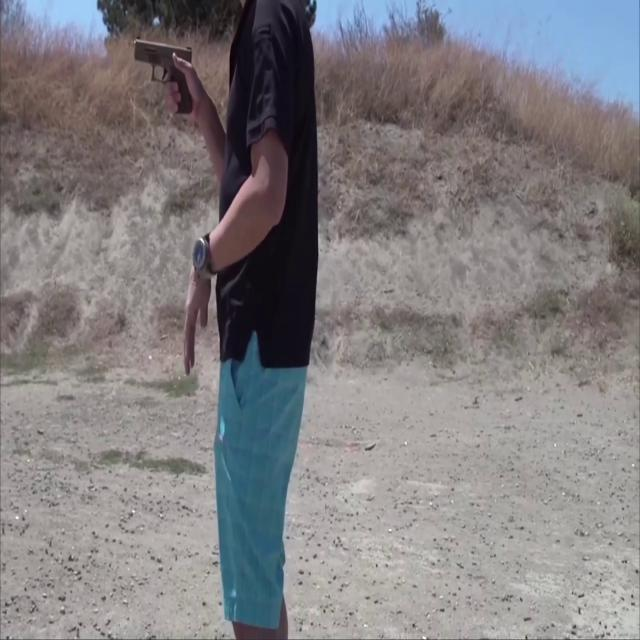gun: (134, 36, 194, 118)
